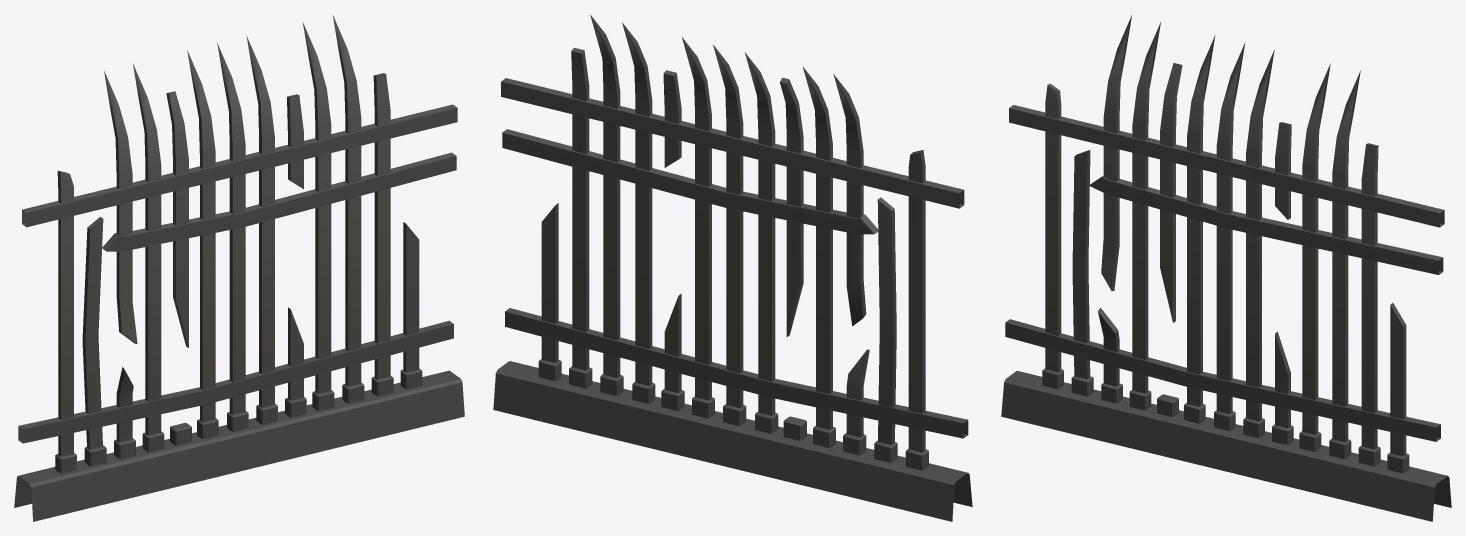
Rendered from Fence_01.fbx.
3 renders of one model, left to right at view 1: azimuth 30°, elevation 25°; view 2: azimuth 150°, elevation 25°; view 3: azimuth 330°, elevation 25°, orthographic. The views are drawn at different scales.
Parts seen in each view (by area): view 1: Fence_01; view 2: Fence_01; view 3: Fence_01.
Part boxes in pixels (x1=…): Fence_01: x1=14, y1=15, x2=464, y2=521; Fence_01: x1=493, y1=14, x2=972, y2=521; Fence_01: x1=1001, y1=15, x2=1451, y2=521.
Size of the model in its own units: 378 by 337 by 45.41.
